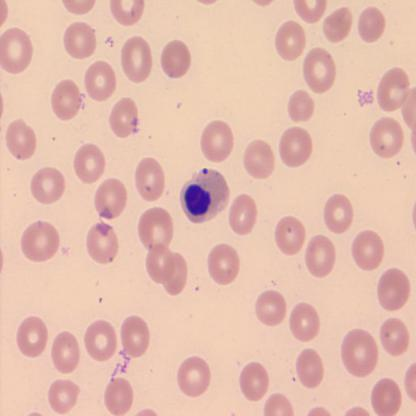NRC: (178, 165, 231, 225)
